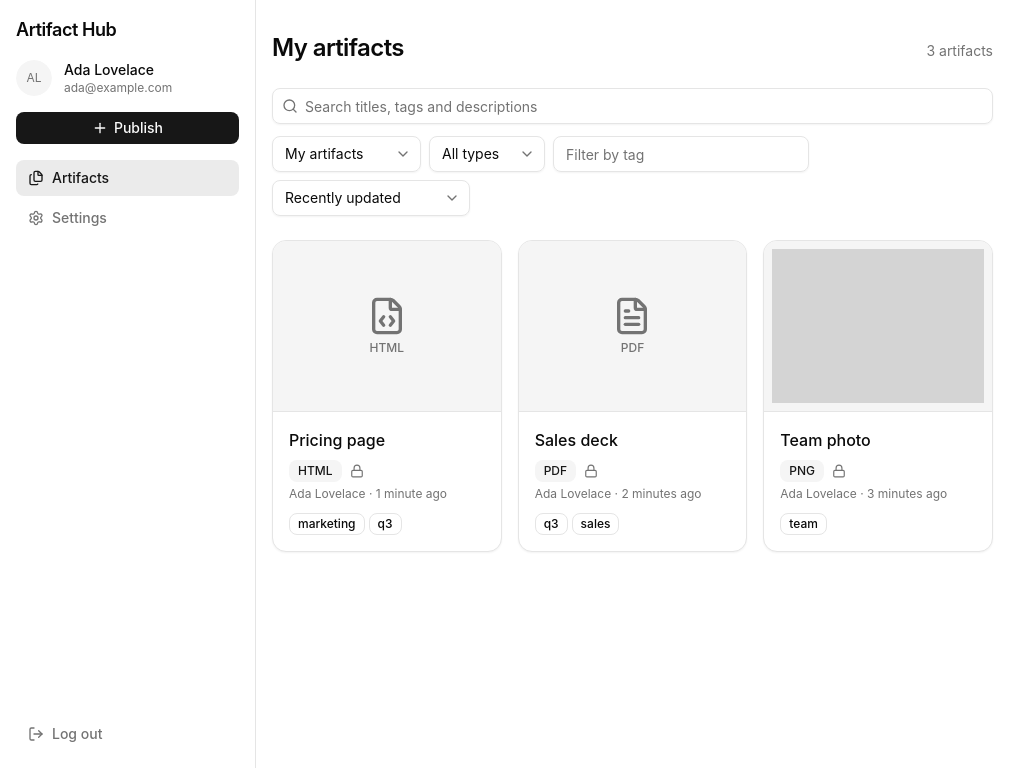
Test: gallery › search and filters › searches as you type, keeping the search in the URL
The image size is (1024, 768).
Check: the text "3 artifacts" is shown, box left=926, top=41, right=993, bottom=61
In the search field labelled "Search": (632, 106) left=272, top=88, right=993, bottom=124, type "pric pag"
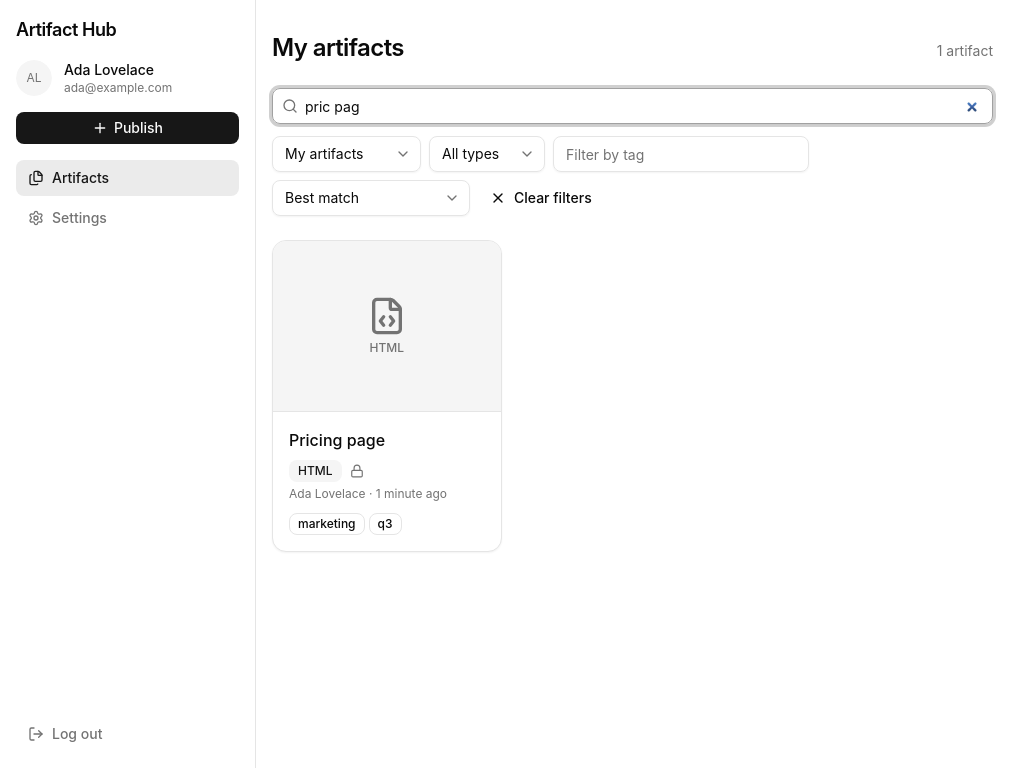
Check: the text "1 artifact" is shown, box left=937, top=41, right=993, bottom=61
